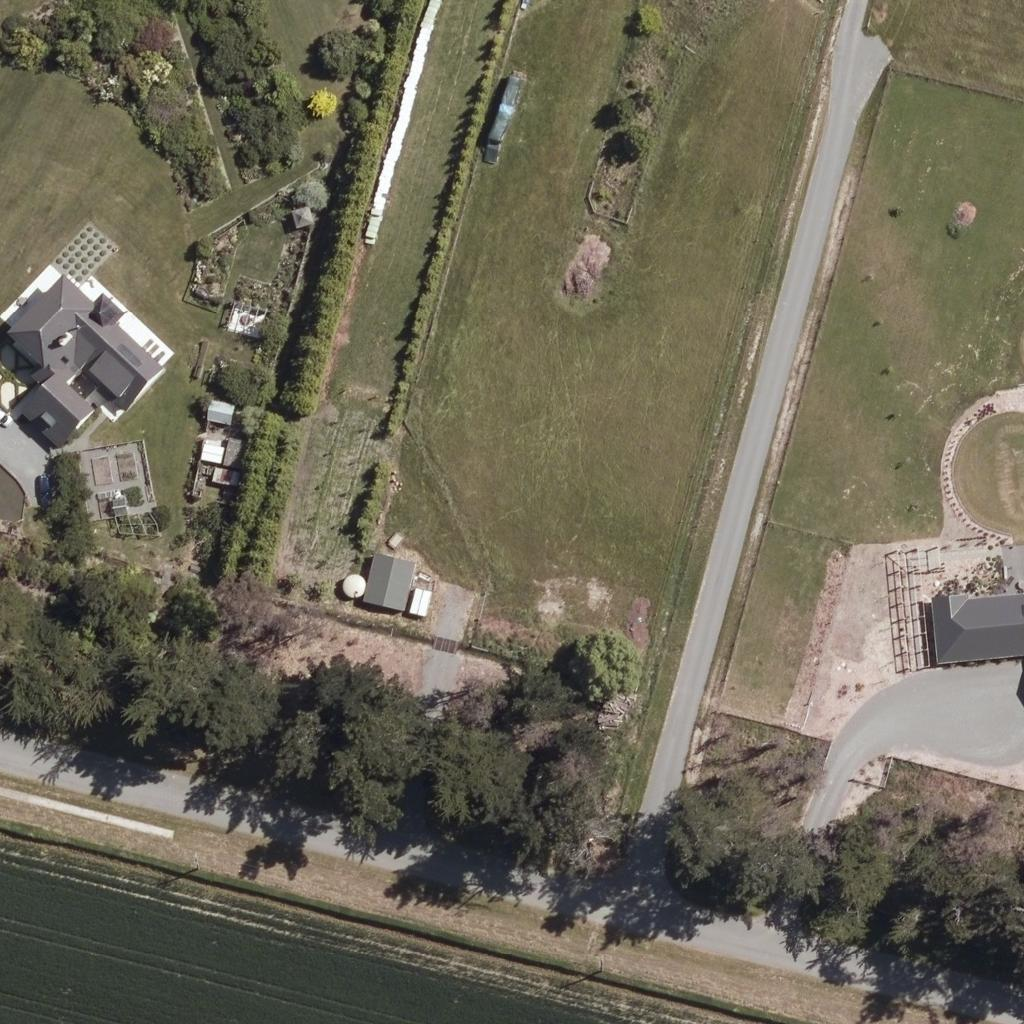car: (26, 470, 60, 504)
